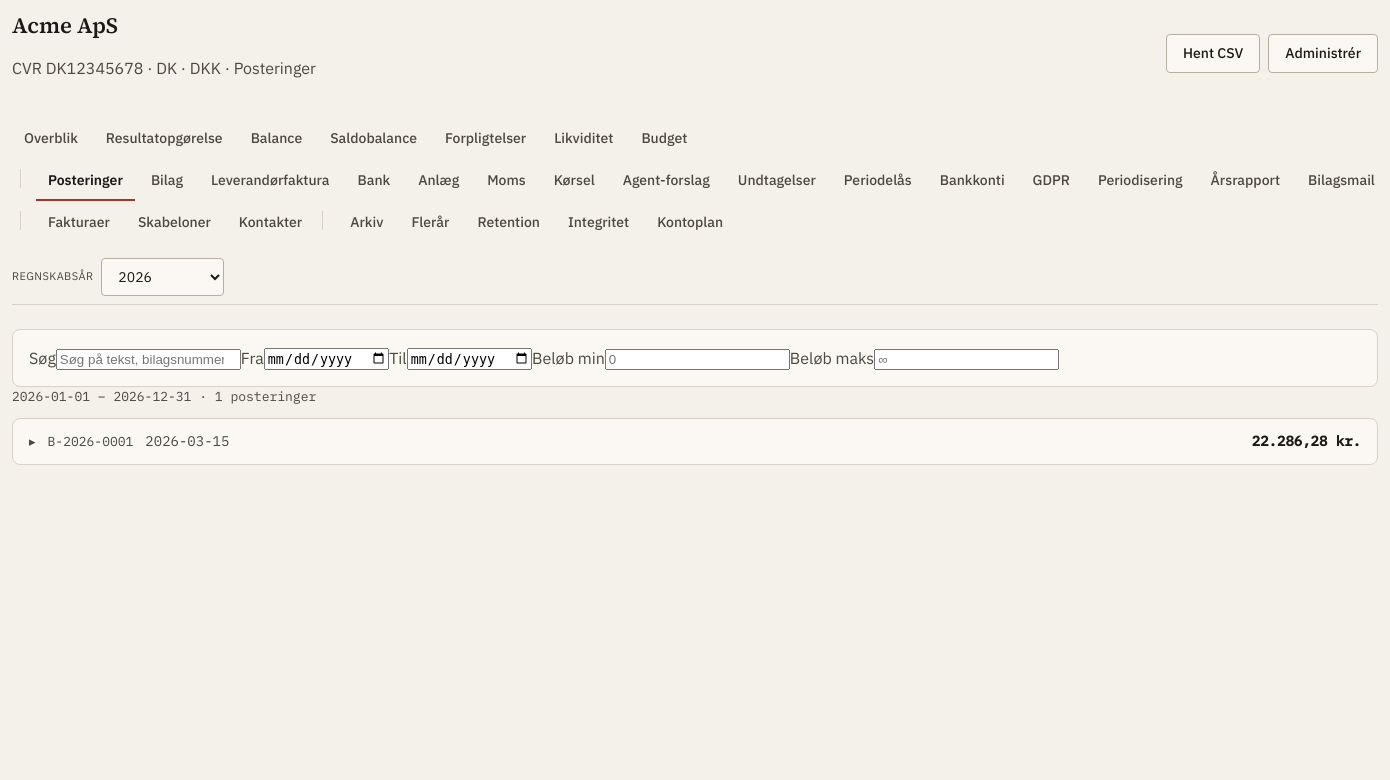
JournalView — #396 filter-bar › #379 — en entry med documentId viser et 'Åbn bilag'-link der peger på file-routen
Click the button named "Salg af ydelse" at (90, 441), box x1=13 y1=419 x2=1377 y2=464
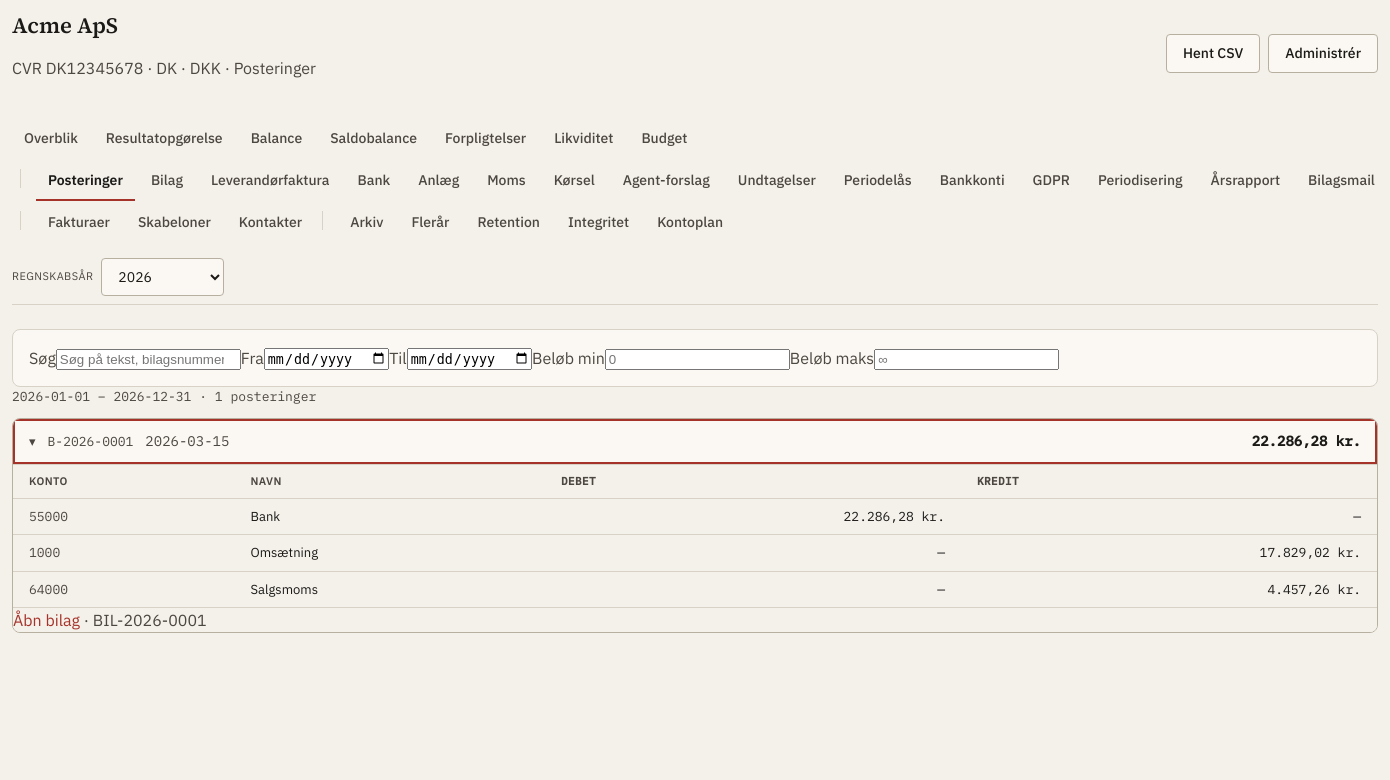
Check: the text "· BIL-2026-0001" is shown, box x1=80 y1=610 x2=207 y2=630
